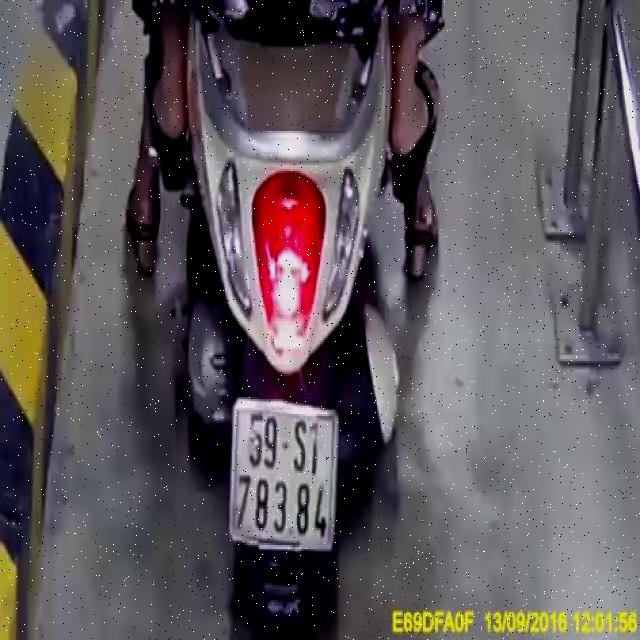1: (309, 421, 322, 478)
3: (270, 476, 290, 538)
4: (314, 480, 329, 537)
5: (248, 412, 263, 466)
7: (236, 472, 252, 532)
8: (293, 482, 312, 536), (256, 477, 271, 534)
9: (262, 416, 281, 470)
S: (292, 419, 309, 475)
